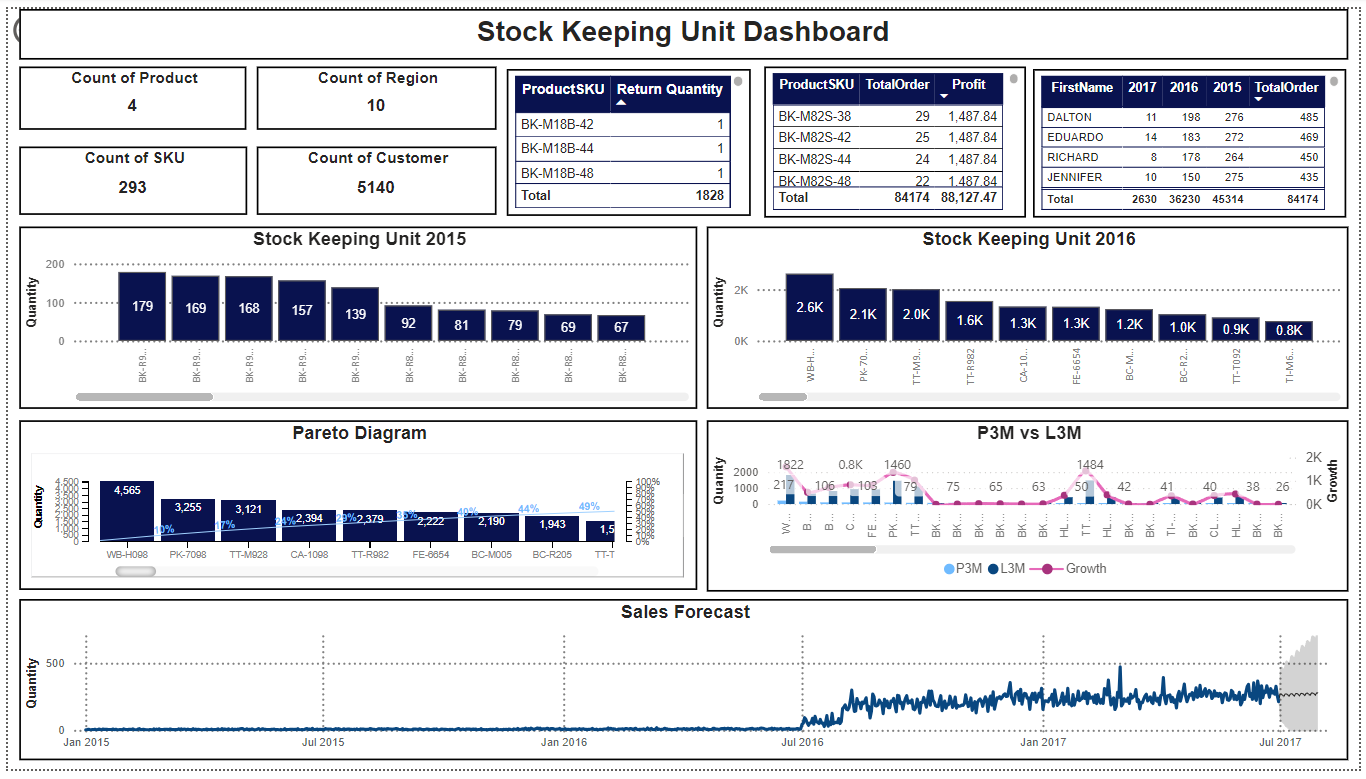

What the dashboard file says about the page in this screenshot:
{"tool":"powerbi","page":{"name":"Dashboard","canvas":[1280,720],"ordinal":0},"visuals":[{"type":"paretoplus2EFEC13210A14D3E82580687601DE984","title":"Pareto Diagram","fields":{"values":["Sum(Sales_2017.OrderQty)"],"categories":["Sheet2.ProductSKU"]},"box":[11,390,642,161],"z":0},{"type":"actionButton","box":[0,0,100,40],"z":1000},{"type":"lineChart","title":"Sales Forecast","fields":{"Category":["Forecast.OrderDate"],"Y":["Sum(Forecast.OrderQuantity)"]},"box":[11,559,1259,153],"z":2000},{"type":"clusteredColumnChart","title":"Stock Keeping Unit 2015","fields":{"Y":["Sum(Sales_2015.OrderQuantity)"],"Category":["Sheet2.ProductSKU"]},"box":[11,206,642,173],"z":3000},{"type":"clusteredColumnChart","title":"Stock Keeping Unit 2016","fields":{"Y":["Sum(Sales_2016.OrderQty)"],"Category":["Products.ProductSKU"]},"box":[662,206,608,173],"z":4000},{"type":"lineClusteredColumnComboChart","title":"P3M vs L3M","fields":{"Category":["Sheet2.ProductSKU"],"Y":["Sales_2016.P3M","Sales_2016.L3M"],"Y2":["Sales_2016.Growth"]},"box":[662,390,608,162],"z":5000},{"type":"textbox","box":[11,0,1259,48],"z":6000},{"type":"tableEx","fields":{"Values":["Products.ProductSKU","Sum(Returns.ReturnQuantity)"]},"box":[473,57,231,139],"z":7000},{"type":"tableEx","fields":{"Values":["Products.ProductSKU","Customers.TotalOrder","Products.Profit"]},"box":[716,55,248,143],"z":8000},{"type":"tableEx","fields":{"Values":["Customers.FirstName","Sum(Sales_2015.OrderQuantity)","Sum(Sales_2016.OrderQty)","Sum(Sales_2017.OrderQty)","Customers.TotalOrder"]},"box":[971,57,297,141],"z":9000},{"type":"card","title":"Count of Region","fields":{"Values":["Count(Territories.Region)"]},"box":[235.8,54.9,226.8,60.3],"z":10000},{"type":"card","title":"Count of Product","fields":{"Values":["CountNonNull(Categories.ProductCategoryKey)"]},"box":[10.8,54.9,215.1,60.3],"z":11000},{"type":"card","title":"Count of Customer","fields":{"Values":["CountNonNull(Churn Model.Customer ID)"]},"box":[235.8,130.5,226.8,64.8],"z":12000},{"type":"card","title":"Count of SKU","fields":{"Values":["CountNonNull(Products.ProductSKU)"]},"box":[10.8,130.5,216,64.8],"z":13000}]}

Visuals, with their boxes in screenshot pixels (x1, y1, x2, y2), scaled from the page's 1280x720 canvas onto the 1366x779 screenshot:
"Pareto Diagram" paretoplus2EFEC13210A14D3E82580687601DE984: 12:422:697:596
actionButton: 0:0:107:43
"Sales Forecast" lineChart: 12:605:1355:770
"Stock Keeping Unit 2015" clusteredColumnChart: 12:223:697:410
"Stock Keeping Unit 2016" clusteredColumnChart: 706:223:1355:410
"P3M vs L3M" lineClusteredColumnComboChart: 706:422:1355:597
textbox: 12:0:1355:52
tableEx - Products.ProductSKU x Sum(Returns.ReturnQuantity): 505:62:751:212
tableEx - Products.ProductSKU x Customers.TotalOrder: 764:60:1029:214
tableEx - Customers.FirstName x Sum(Sales_2015.OrderQuantity): 1036:62:1353:214
"Count of Region" card: 252:59:494:125
"Count of Product" card: 12:59:241:125
"Count of Customer" card: 252:141:494:211
"Count of SKU" card: 12:141:242:211
